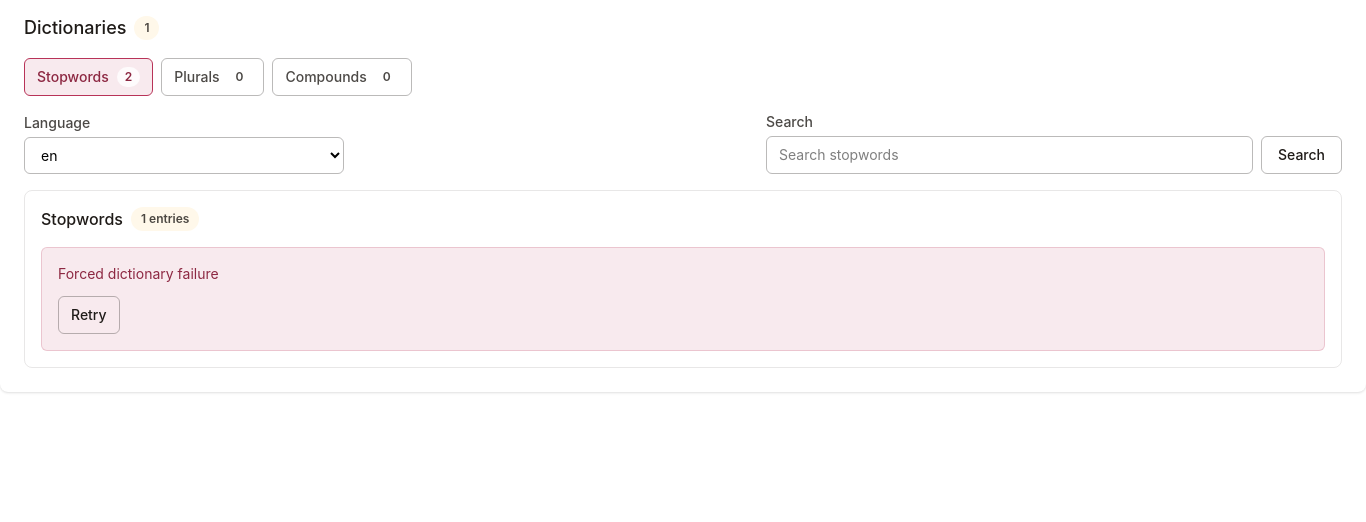
Test: DictionariesTab › keeps loading state visible through same-url retry force reload
This screenshot has width=1366, height=522.
Click the button with test id "dictionary-retry-btn" at (89, 315), box [58,296,120,334]
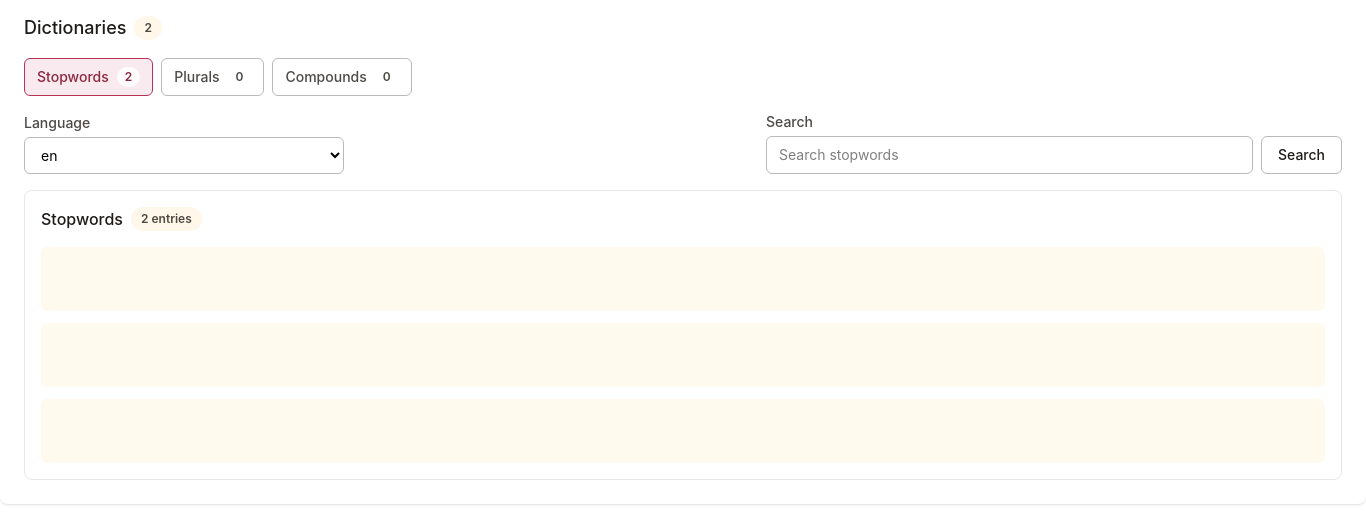
Result: the element with test id "dictionary-load-error-state" is gone
